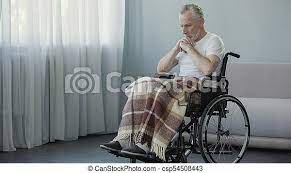wheelchair: (99, 3, 251, 163)
